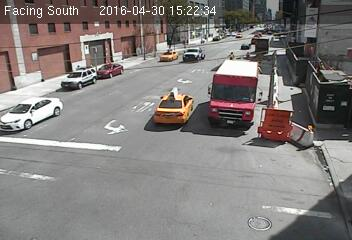neg: (308, 90, 330, 119), (262, 122, 275, 141)
pos: (226, 49, 236, 62)
